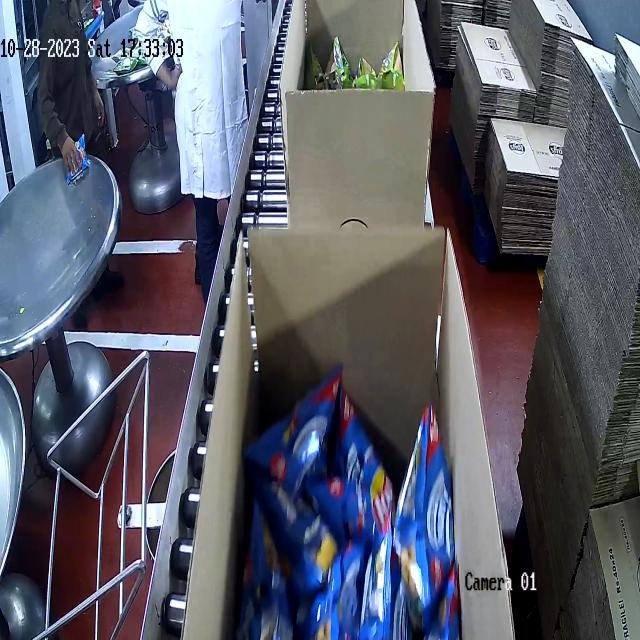PAPRIKA: (248, 367, 458, 640)
